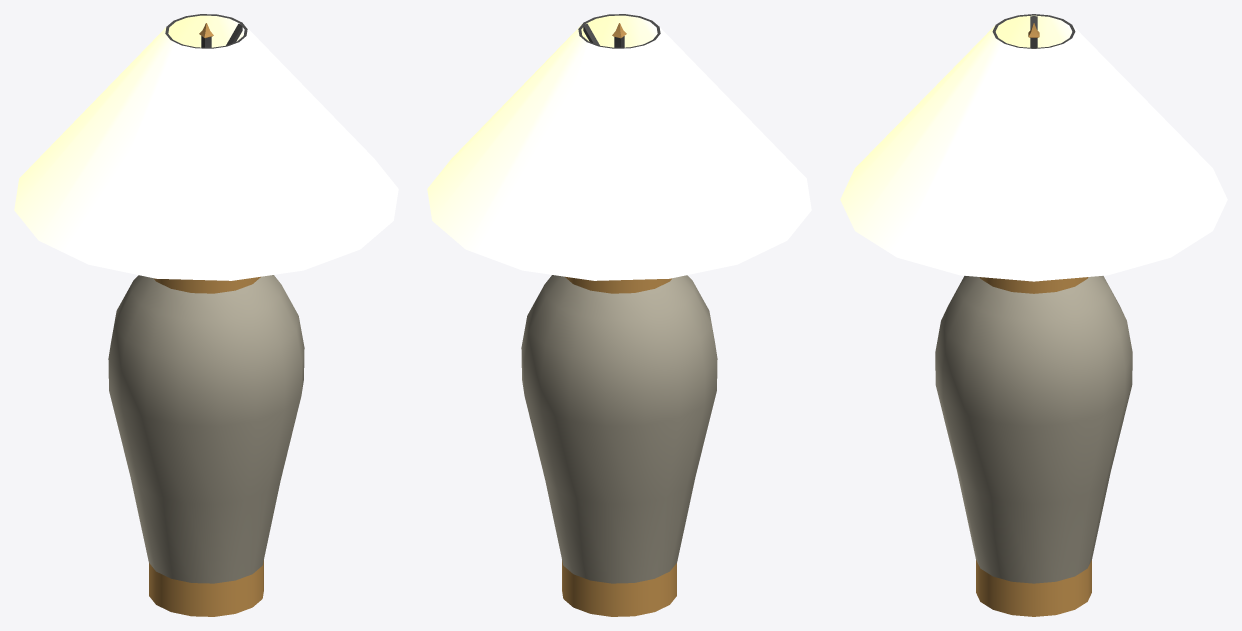
File: S_LampAbat-jour2.fbx
3 renders of one model, left to right at view 1: azimuth 30°, elevation 25°; view 2: azimuth 150°, elevation 25°; view 3: azimuth 270°, elevation 25°, orthographic.
Visible parts, largest first — view 1: S_LampAbat-jour2; view 2: S_LampAbat-jour2; view 3: S_LampAbat-jour2.
Part boxes in pixels (x1,y1,x2,y2): S_LampAbat-jour2: (14,14,398,616); S_LampAbat-jour2: (427,14,811,616); S_LampAbat-jour2: (840,14,1227,616).
Size of the model in its own units: 66.69 by 108 by 66.69.
